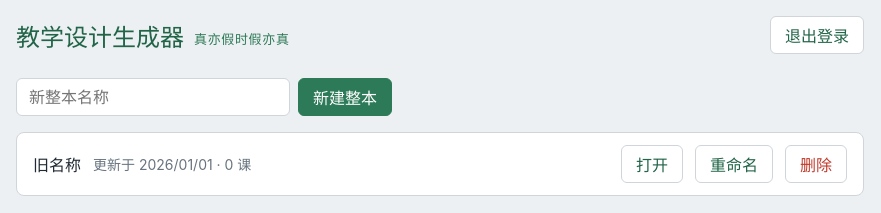
BookListPage › renames a book
The width and height of the screenshot is (881, 213).
Step 1. Click the button with test id "rename-b1" → [734, 164], box [695,145,773,183]
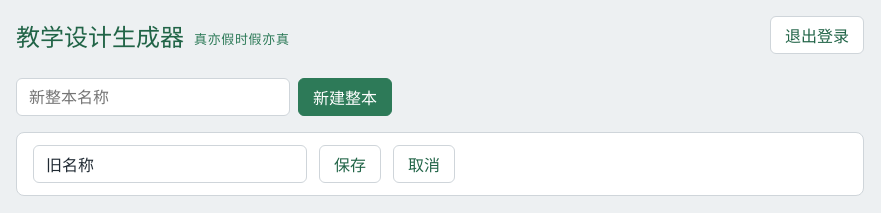
Step 2. Replace the text in the field named "整本名称" with "新名称" → [170, 164], box [33,145,307,183]
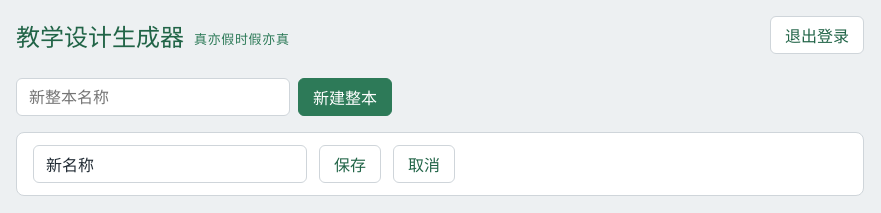
Step 3. Click the button with test id "confirm-rename-b1" → [350, 164], box [319,145,381,183]
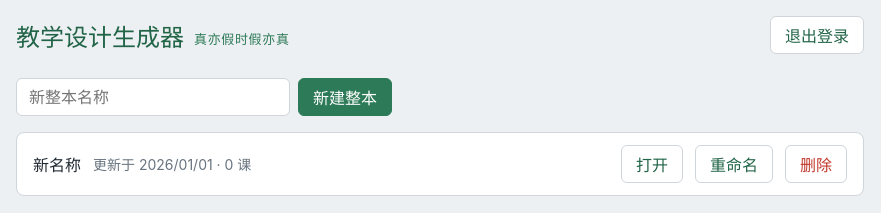
Expected: the text "新名称" is shown, [33,152,81,176]
